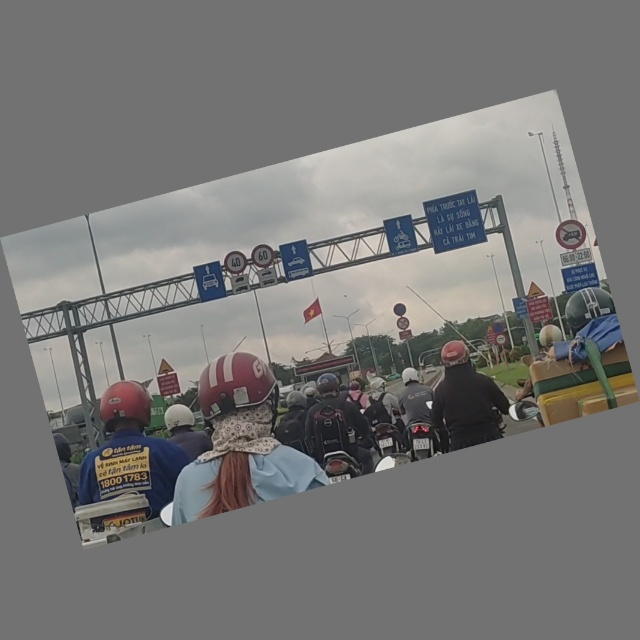Camera: (510, 295, 531, 322)
P.106a*Xe tai: (552, 215, 590, 253)
P.111: (396, 317, 411, 332)
P.127*40: (222, 249, 250, 277)
P.127*60: (249, 242, 277, 271)
P.129: (495, 334, 508, 347)
P.130: (392, 302, 408, 318)
P.131a: (492, 322, 505, 336)
W.221b: (152, 356, 177, 377), (523, 280, 546, 301), (484, 325, 495, 337)
